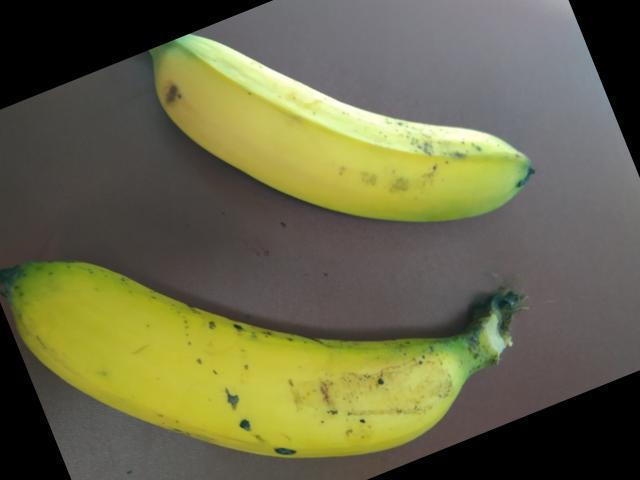freshripe: (126, 27, 536, 239)
ripe: (2, 226, 496, 457)
